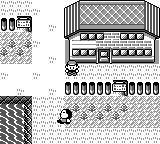captura: (0, 104, 25, 144)
leer: (17, 16, 32, 32), (112, 80, 128, 95)
main: (65, 60, 79, 76)
mo: (0, 96, 32, 143)
no-caminable: (64, 0, 159, 63), (65, 82, 111, 95), (129, 82, 159, 95), (1, 17, 15, 32)
npc: (57, 109, 72, 124)
puerta: (98, 49, 110, 63)
